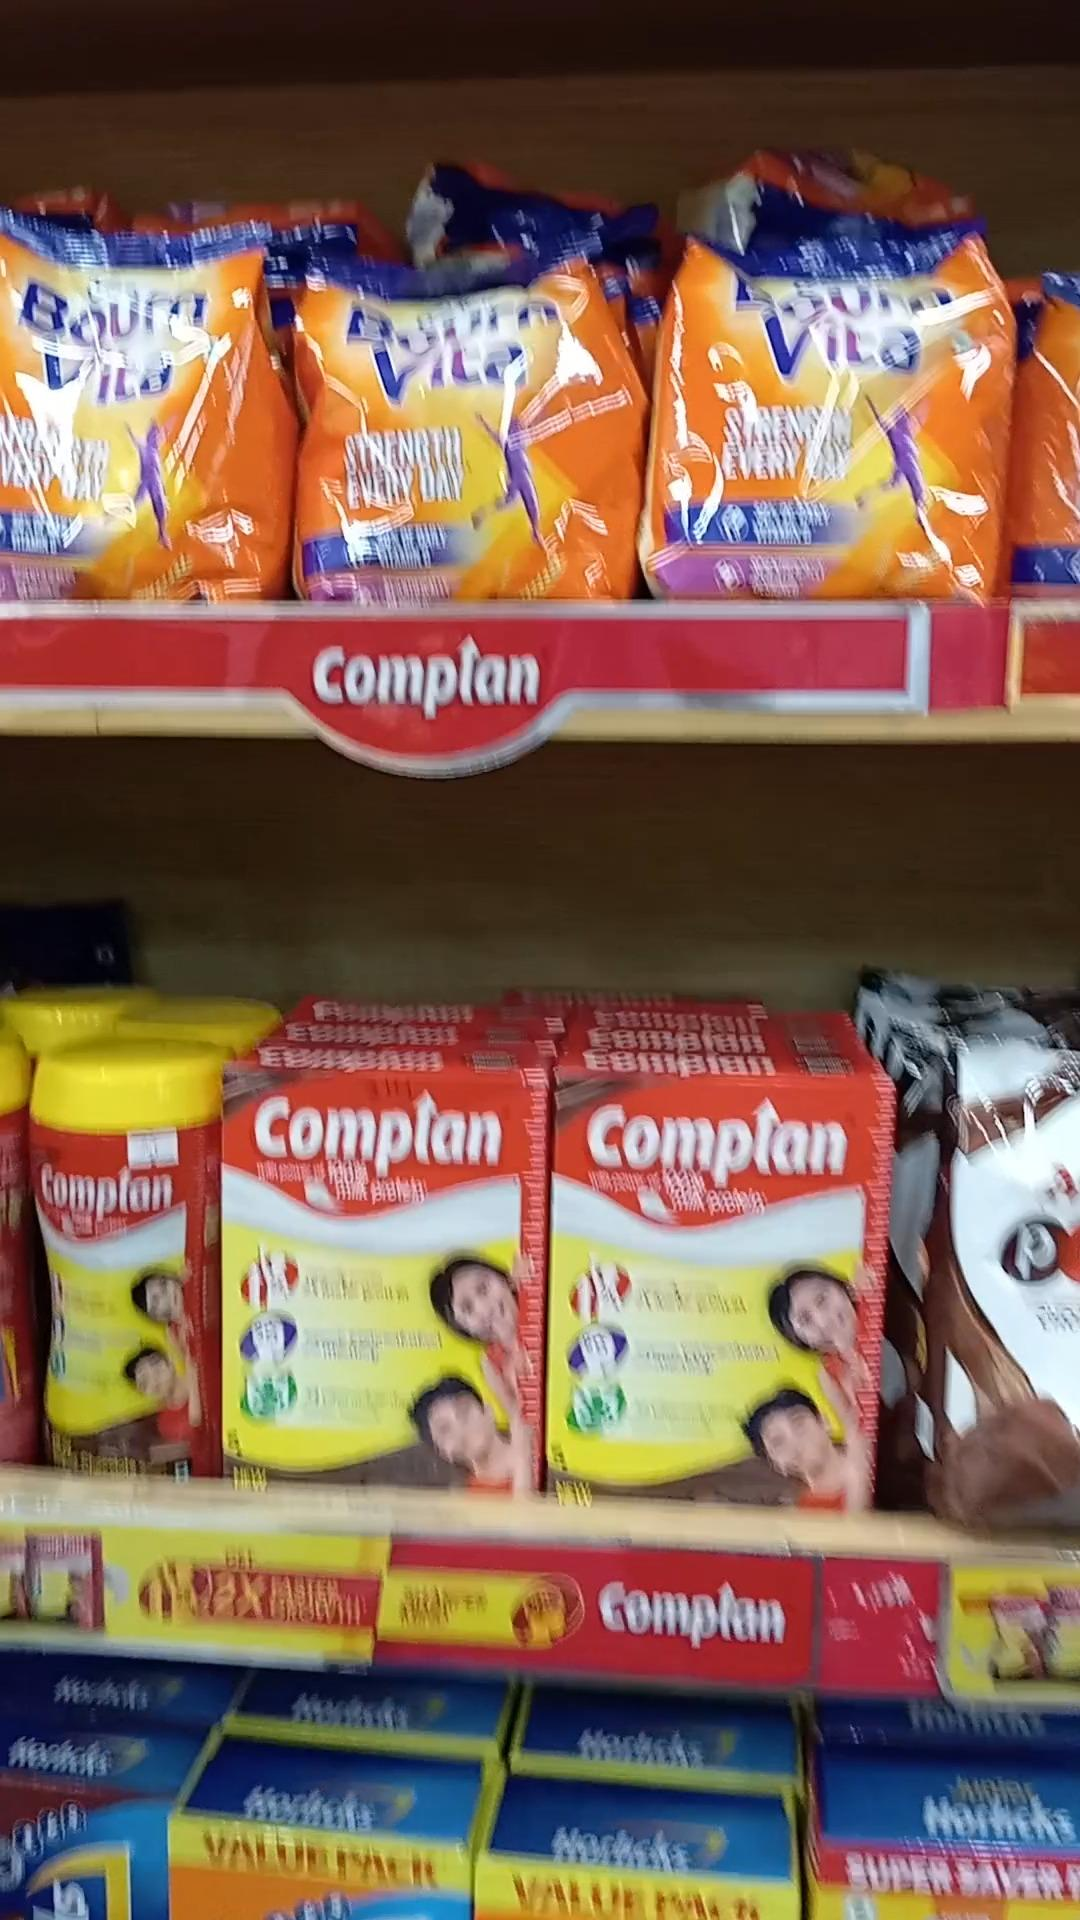BOURN_VITA_500_G_POUCH: (661, 214, 1015, 599), (305, 255, 626, 599), (0, 202, 276, 603)
COMPLAN_CHOCOLATE_500_GMS_JAR: (34, 1052, 214, 1478)
COMPLAN_CHOCOLATE_500_GMS_PACK: (229, 1062, 549, 1506), (563, 1071, 873, 1516)
